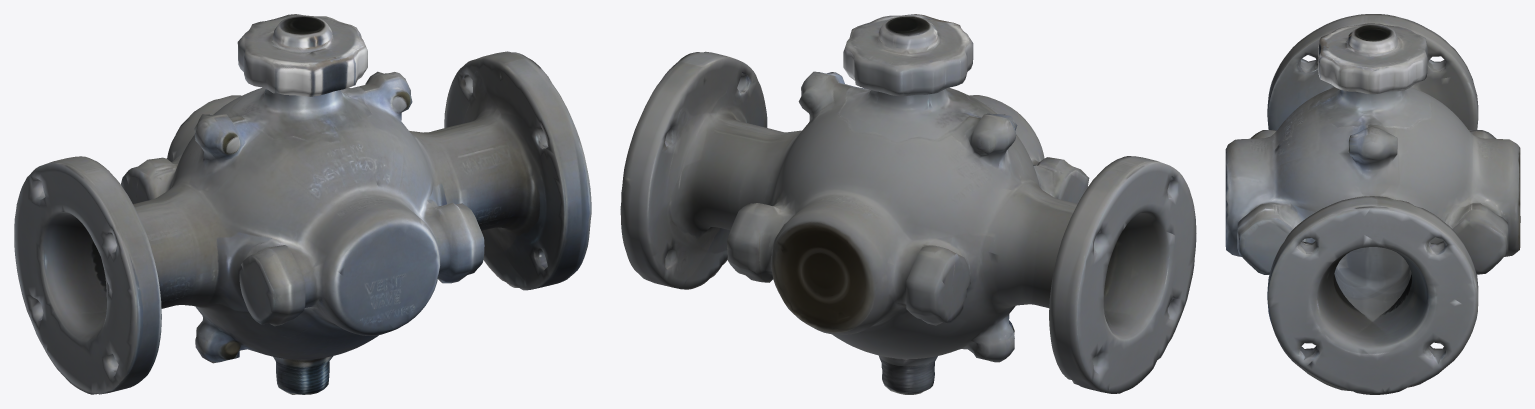
File: vent_valve_1030064950_refine.fbx
3 renders of one model, left to right at view 1: azimuth 30°, elevation 25°; view 2: azimuth 150°, elevation 25°; view 3: azimuth 270°, elevation 25°, orthographic. The views are drawn at different scales.
Parts seen in each view (by area): view 1: Mesh1_Mesh1.037; view 2: Mesh1_Mesh1.037; view 3: Mesh1_Mesh1.037.
Boxes of the visible parts, x1=… form: Mesh1_Mesh1.037: x1=14, y1=14, x2=591, y2=394; Mesh1_Mesh1.037: x1=620, y1=14, x2=1196, y2=394; Mesh1_Mesh1.037: x1=1225, y1=14, x2=1520, y2=394.
Bounding box in the file's own units: 200 × 151 × 128.
1 material, 1 textured.
